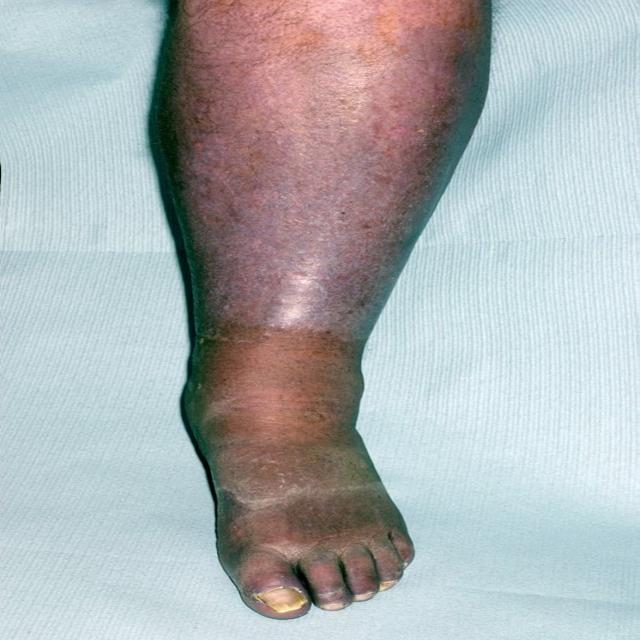wound: (189, 321, 392, 548)
